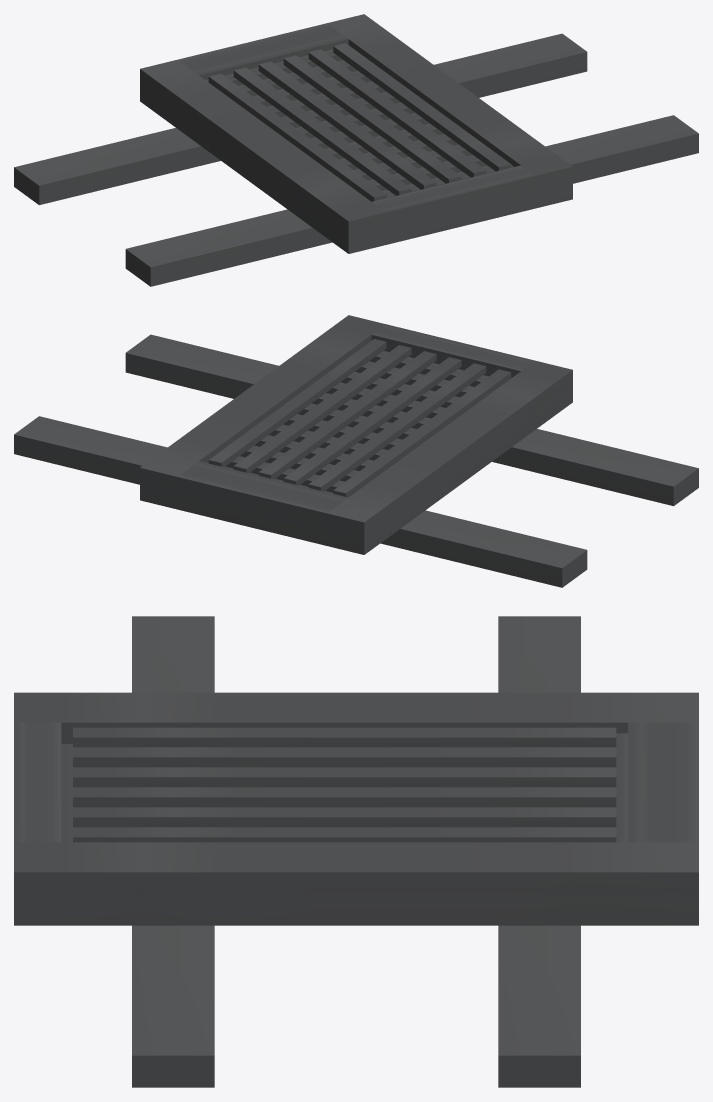
The model's file is oss_sensor.obj.
3 views of the same model, one above another, from view 1: azimuth 30°, elevation 25°; view 2: azimuth 150°, elevation 25°; view 3: azimuth 270°, elevation 25° (orthographic). The views are drawn at different scales.
Visible parts, largest first — view 1: cube; view 2: cube; view 3: cube.
Boxes of the visible parts, x1=… form: cube: x1=14, y1=14, x2=698, y2=286; cube: x1=14, y1=315, x2=698, y2=587; cube: x1=14, y1=616, x2=698, y2=1087.
Bounding box in the file's own units: 1.38 × 0.125 × 0.9062.
1 material, 1 textured.
